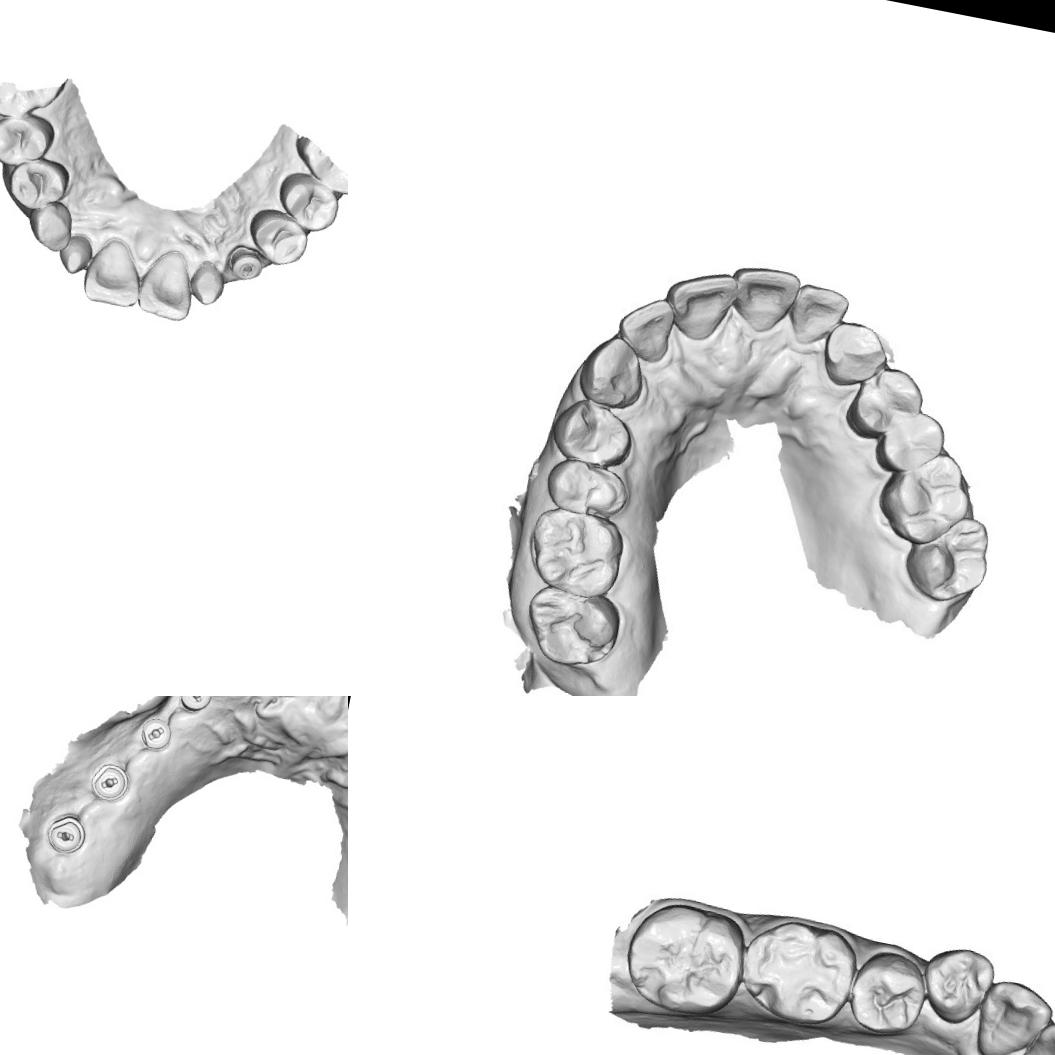canine: (572, 327, 656, 414), (970, 974, 1049, 1055), (22, 196, 78, 255)
implant_minus: (42, 810, 90, 859), (87, 758, 133, 807), (134, 711, 175, 756), (225, 241, 267, 284), (175, 696, 215, 715)
incisor: (654, 255, 741, 349), (723, 258, 805, 340), (78, 230, 150, 312), (781, 276, 855, 354), (132, 243, 200, 323), (612, 290, 680, 365), (185, 256, 229, 308), (54, 231, 96, 277), (1013, 1016, 1055, 1055)
molar: (619, 896, 754, 1026), (731, 911, 862, 1036), (869, 439, 980, 555), (520, 500, 636, 604), (516, 580, 632, 678), (898, 504, 998, 609)
premolar: (838, 358, 931, 450), (845, 945, 931, 1044), (546, 388, 642, 473), (917, 938, 1000, 1034), (536, 449, 638, 524), (870, 399, 950, 483), (815, 314, 889, 394), (242, 202, 314, 271), (271, 167, 344, 235), (3, 151, 72, 214), (0, 107, 57, 174)
